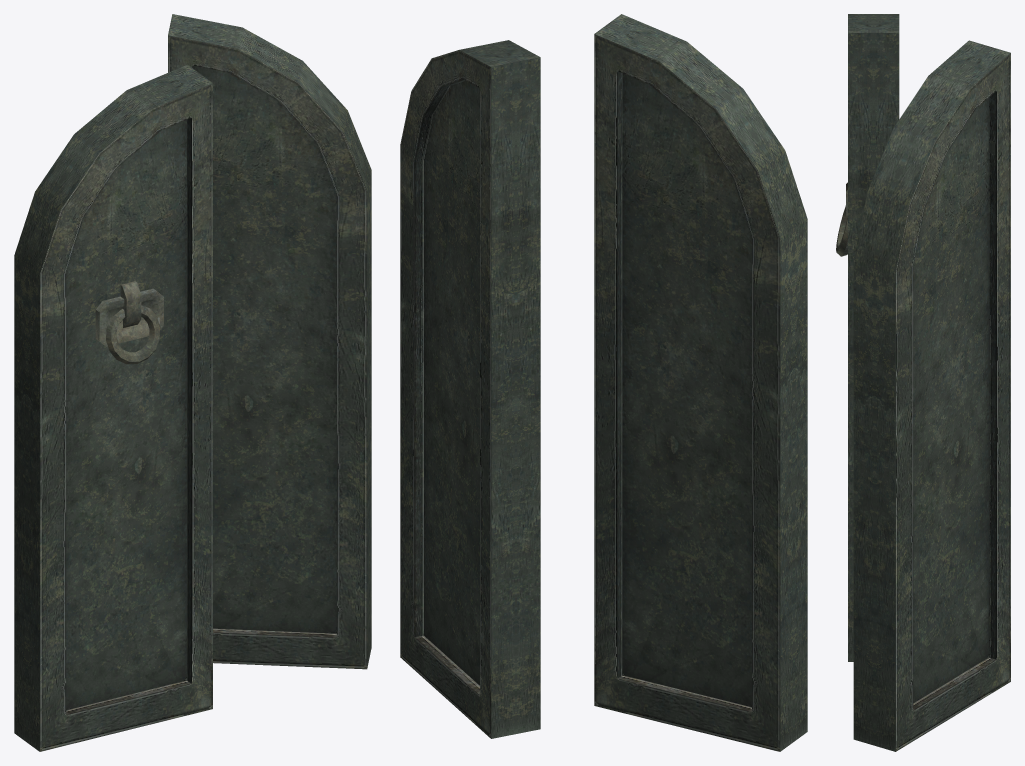
Rendered from Mausoleum_Door_Opened.dae.
3 views of the same model, side by side, from view 1: azimuth 30°, elevation 25°; view 2: azimuth 150°, elevation 25°; view 3: azimuth 270°, elevation 25° (orthographic). The views are drawn at different scales.
Parts seen in each view (by area): view 1: Mausoleum_Door_Opened; view 2: Mausoleum_Door_Opened; view 3: Mausoleum_Door_Opened.
Part boxes in pixels (x1,y1,x2,y2): Mausoleum_Door_Opened: [14, 14, 371, 751]; Mausoleum_Door_Opened: [400, 14, 807, 751]; Mausoleum_Door_Opened: [836, 14, 1010, 751].
Bounding box in the file's own units: 1.41 × 0.5979 × 2.37.
